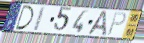4: (71, 9, 88, 35)
5: (52, 7, 73, 35)
A: (86, 10, 108, 37)
D: (14, 5, 35, 31)
I: (32, 6, 47, 32)
P: (106, 12, 128, 37)
